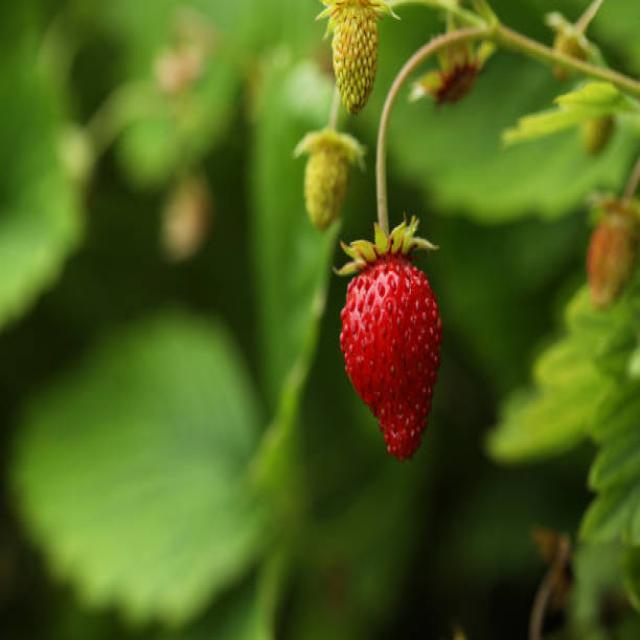Healthy Fruit: (342, 258, 440, 467)
